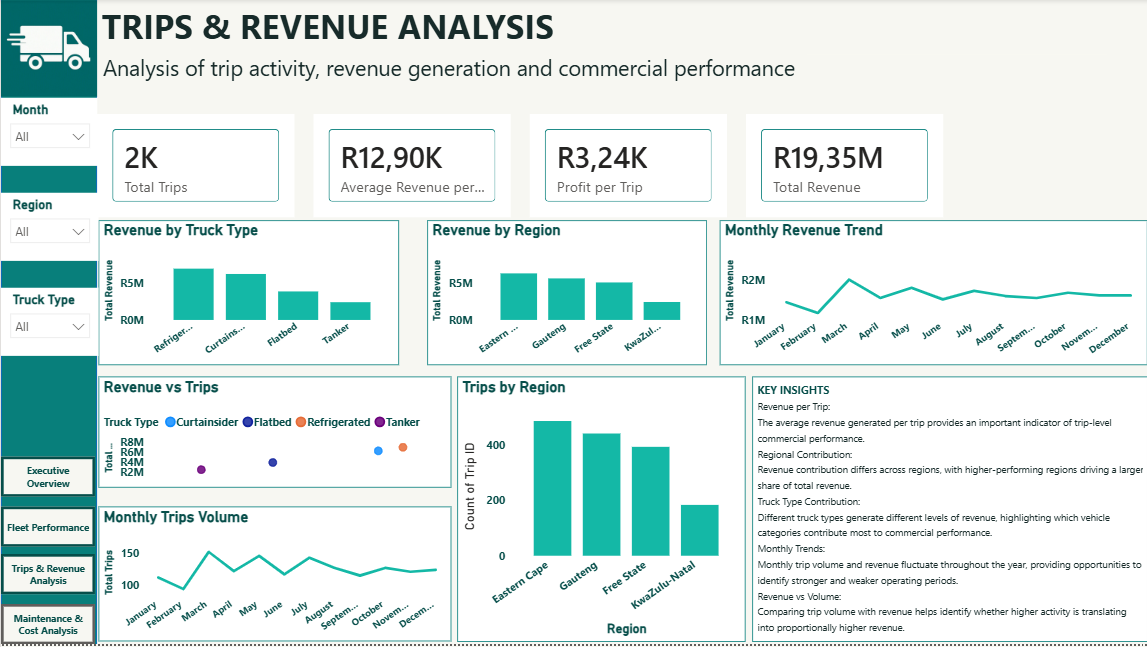

The page's visual inventory and layout, read from the dashboard file:
{"tool":"powerbi","page":{"name":"Trips & Revenue Analysis","canvas":[1280,720],"ordinal":2},"visuals":[{"type":"cardVisual","fields":{"Data":["Trips.Average Revenue per Trip"]},"box":[348.3,128,220,115],"z":0},{"type":"cardVisual","fields":{"Data":["Trips.Total Revenue"]},"box":[830.6,128,220,115],"z":1000},{"type":"cardVisual","fields":{"Data":["Trips.Total Trips"]},"box":[107.1,128,220,115],"z":2000},{"type":"cardVisual","fields":{"Data":["Trips.Profit per Trip"]},"box":[589.4,128,220,115],"z":3000},{"type":"clusteredColumnChart","title":"Revenue by Region","fields":{"Category":["Truck_Master.Region"],"Y":["Trips.Total Revenue"]},"box":[475.8,246.3,311.7,161.4],"z":4000},{"type":"columnChart","title":"Trips by Region","fields":{"Category":["Truck_Master.Region"],"Y":["CountNonNull(Trips.Trip_ID)"]},"box":[508.7,420.7,321.6,295.9],"z":5000},{"type":"clusteredColumnChart","title":" Revenue by Truck Type","fields":{"Y":["Trips.Total Revenue"],"Category":["Truck_Master.Truck_Type"]},"box":[108.5,246.3,335.1,161.4],"z":6000},{"type":"lineChart","title":"Monthly Revenue Trend","fields":{"Category":["Date_Dim.Month"],"Y":["Trips.Total Revenue"]},"box":[801.4,246.3,478.6,161.4],"z":7000},{"type":"scatterChart","title":"Revenue vs Trips","fields":{"X":["Trips.Total Trips"],"Y":["Trips.Total Revenue"],"Series":["Truck_Master.Truck_Type"]},"box":[108.5,421.6,393.7,123.8],"z":8000},{"type":"lineChart","title":"Monthly Trips Volume","fields":{"Category":["Date_Dim.Month"],"Y":["Trips.Total Trips"]},"box":[108.5,566.3,393.7,150.3],"z":9000},{"type":"shape","box":[0,0,107.1,720.7],"z":10000},{"type":"slicer","fields":{"Values":["Truck_Master.Truck_Type"]},"box":[0,322.8,109,76],"z":11000},{"type":"slicer","fields":{"Values":["Truck_Master.Region"]},"box":[0,216.3,109,76],"z":12000},{"type":"slicer","fields":{"Values":["Date_Dim.Month"]},"box":[0,109.9,109,76],"z":13000},{"type":"shape","box":[107.1,0,1172.9,128],"z":14000},{"type":"textbox","box":[107.1,0,1127,62.6],"z":15000},{"type":"textbox","box":[108.5,55.7,790.3,72.3],"z":16000},{"type":"image","box":[0,0,107.1,109.9],"z":17000},{"type":"actionButton","box":[0,510.3,105,45],"z":18000},{"type":"actionButton","box":[0,566.1,105,45],"z":19000},{"type":"actionButton","box":[0,619.1,105,45],"z":20000},{"type":"actionButton","box":[0,675,105,45],"z":21000},{"type":"textbox","box":[837.6,420.7,442.7,295.9],"z":22000}]}

Visuals, with their boxes on the page's 1280x720 design canvas (x1, y1, x2, y2). These are canvas units, not pixel positions in the 1147x647 screenshot, which may show the page scaled, cropped or inside an application window:
cardVisual - Trips.Average Revenue per Trip: l=348, t=128, r=568, b=243
cardVisual - Trips.Total Revenue: l=831, t=128, r=1051, b=243
cardVisual - Trips.Total Trips: l=107, t=128, r=327, b=243
cardVisual - Trips.Profit per Trip: l=589, t=128, r=809, b=243
"Revenue by Region" clusteredColumnChart: l=476, t=246, r=788, b=408
"Trips by Region" columnChart: l=509, t=421, r=830, b=717
" Revenue by Truck Type" clusteredColumnChart: l=108, t=246, r=444, b=408
"Monthly Revenue Trend" lineChart: l=801, t=246, r=1280, b=408
"Revenue vs Trips" scatterChart: l=108, t=422, r=502, b=545
"Monthly Trips Volume" lineChart: l=108, t=566, r=502, b=717
shape: l=0, t=0, r=107, b=721
slicer - Truck_Master.Truck_Type: l=0, t=323, r=109, b=399
slicer - Truck_Master.Region: l=0, t=216, r=109, b=292
slicer - Date_Dim.Month: l=0, t=110, r=109, b=186
shape: l=107, t=0, r=1280, b=128
textbox: l=107, t=0, r=1234, b=63
textbox: l=108, t=56, r=899, b=128
image: l=0, t=0, r=107, b=110
actionButton: l=0, t=510, r=105, b=555
actionButton: l=0, t=566, r=105, b=611
actionButton: l=0, t=619, r=105, b=664
actionButton: l=0, t=675, r=105, b=720
textbox: l=838, t=421, r=1280, b=717
